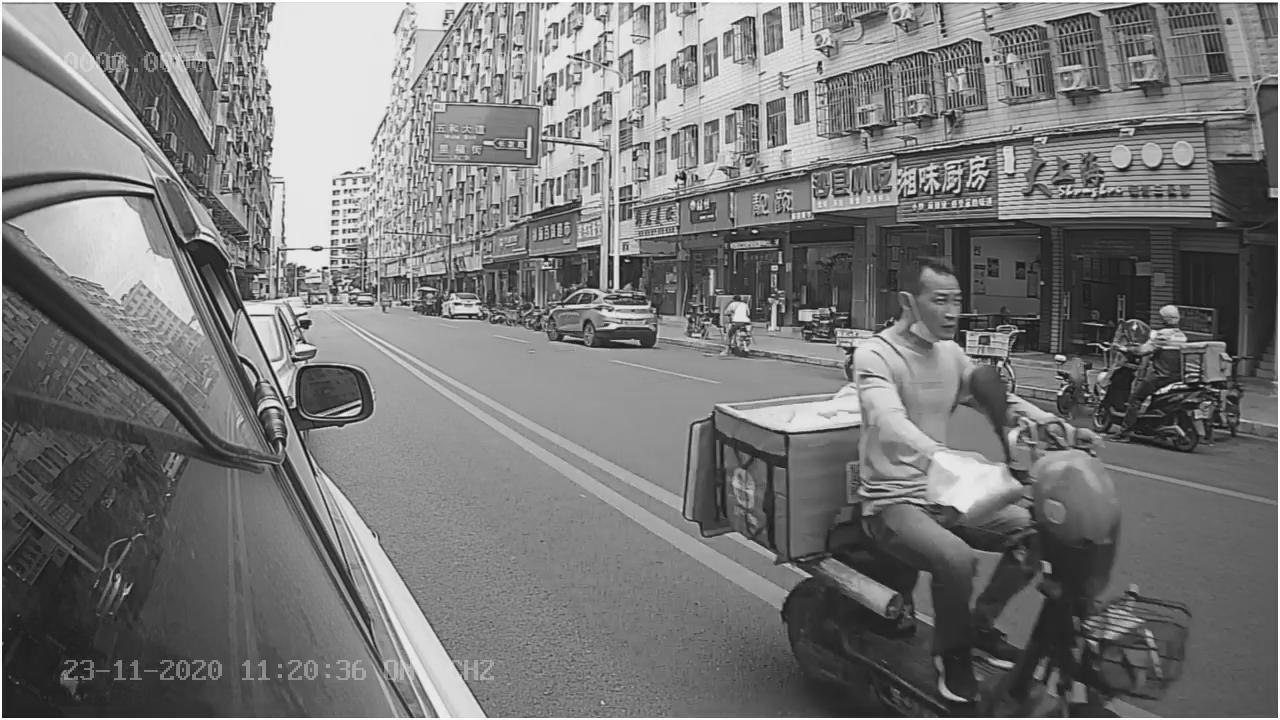person: (857, 252, 967, 488)
